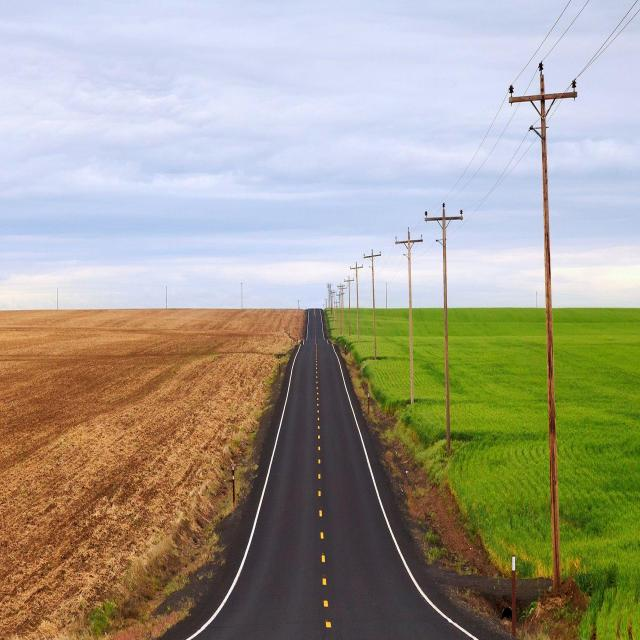pole: (540, 271, 563, 610)
